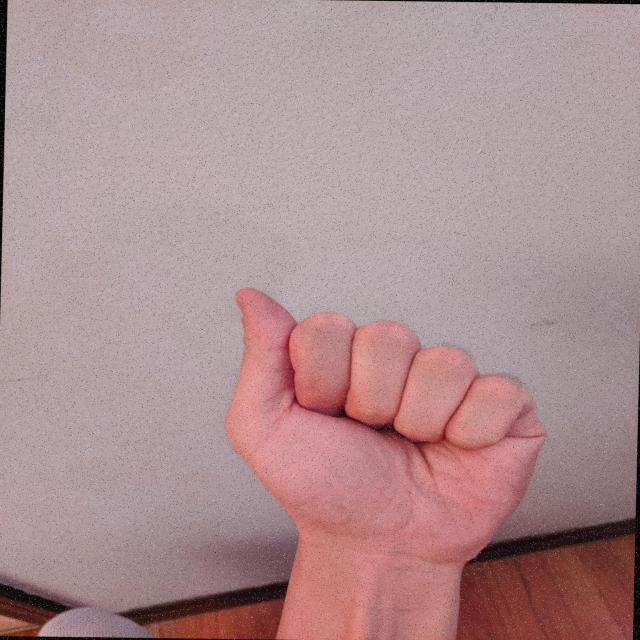A: (213, 280, 558, 588)
